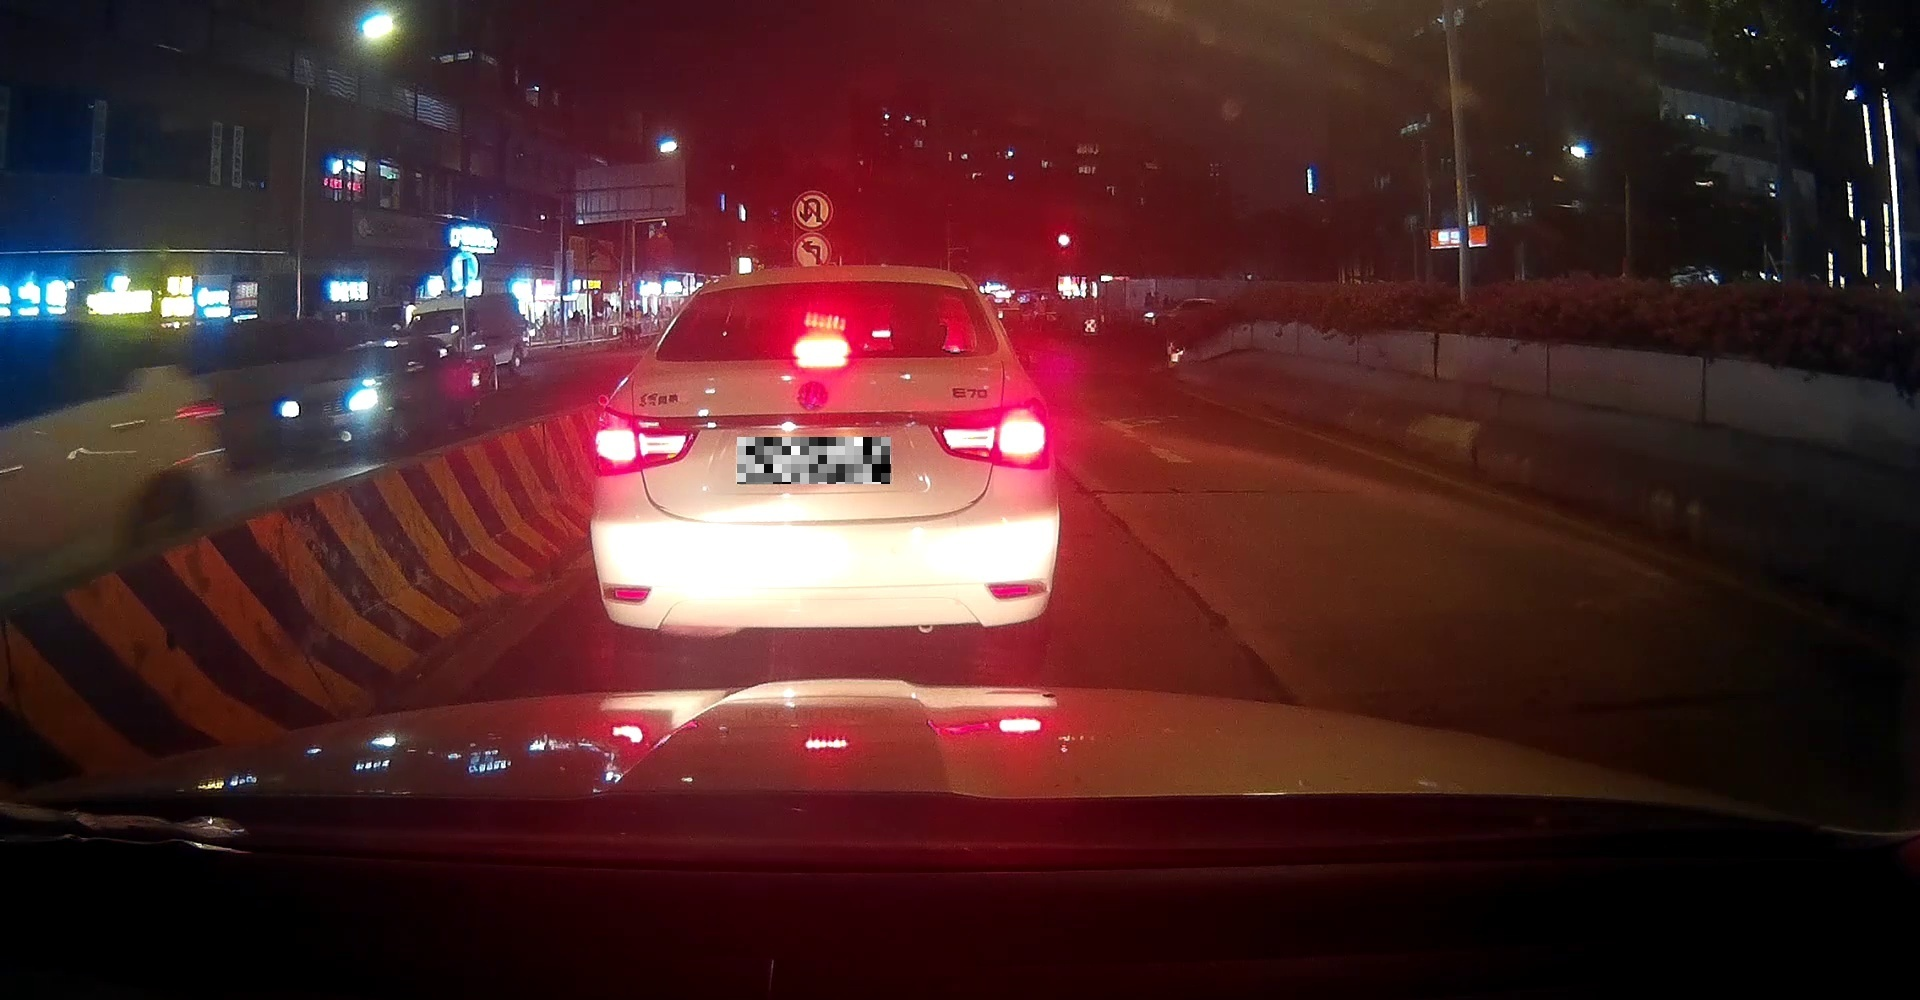L_light: (592, 405, 701, 477)
R_light: (927, 398, 1049, 470)
T_light: (792, 341, 850, 358)
night-brake: (590, 264, 1057, 668)
plate_1: (737, 437, 891, 484)
